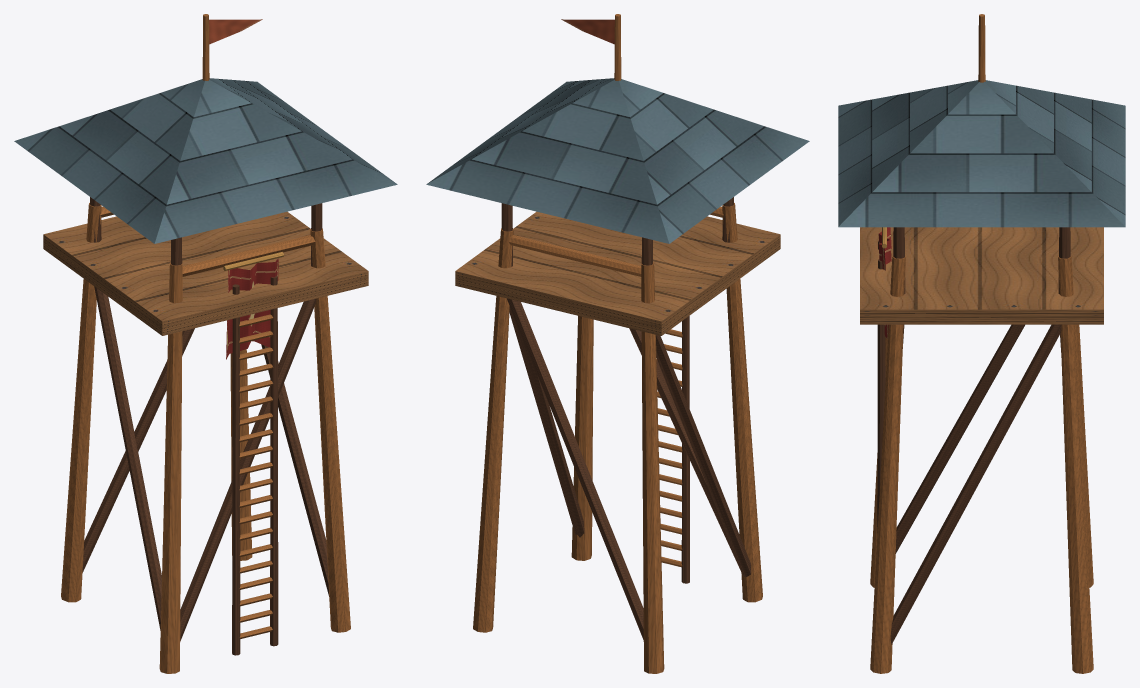
The model's file is tower.glb.
3 views of the same model, side by side, from view 1: azimuth 30°, elevation 25°; view 2: azimuth 150°, elevation 25°; view 3: azimuth 270°, elevation 25° (orthographic). The views are drawn at different scales.
Parts seen in each view (by area): view 1: tower_F4; view 2: tower_F4; view 3: tower_F4.
Boxes of the visible parts, bbox=[...] form: tower_F4: bbox=[14, 14, 397, 673]; tower_F4: bbox=[426, 14, 809, 673]; tower_F4: bbox=[838, 14, 1125, 673].
Size of the model in its own units: 5.9 by 13.86 by 5.9.
1 material, 1 textured.
